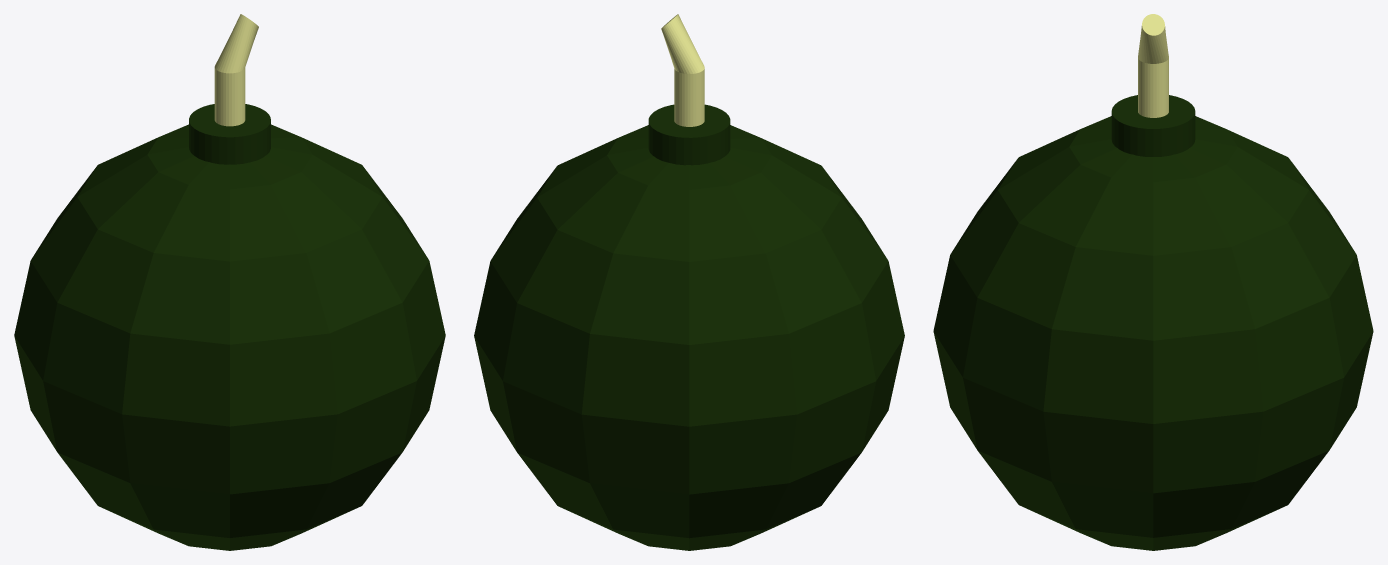
The model's file is Bomb.fbx.
3 renders of one model, left to right at view 1: azimuth 30°, elevation 25°; view 2: azimuth 150°, elevation 25°; view 3: azimuth 270°, elevation 25°, orthographic. The views are drawn at different scales.
Parts seen in each view (by area): view 1: Bomb; view 2: Bomb; view 3: Bomb.
Part boxes in pixels (bbox=[...]): Bomb: bbox=[14, 14, 445, 550]; Bomb: bbox=[474, 14, 904, 550]; Bomb: bbox=[933, 14, 1373, 550].
Bounding box in the file's own units: 95.6 × 95.6 × 125.
